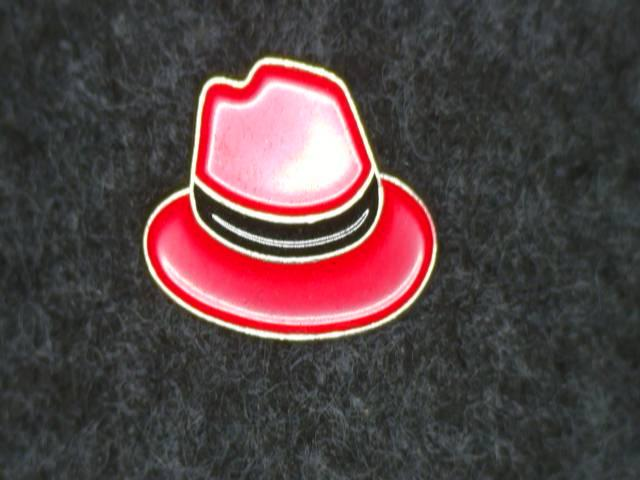Red-Hat: (120, 31, 480, 428)
